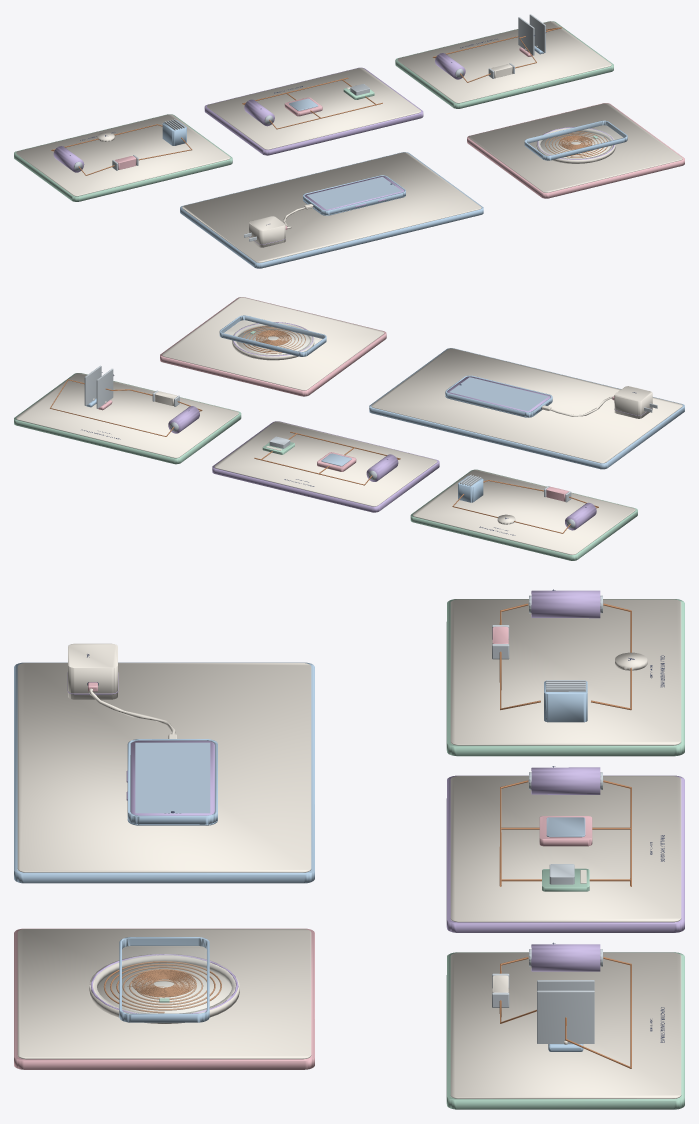
File: assembl-phone-atelier-web.glb
The picture shows the model from 3 angles, top to bottom: view 1: azimuth 30°, elevation 25°; view 2: azimuth 150°, elevation 25°; view 3: azimuth 270°, elevation 25°; orthographic projection. The views are drawn at different scales.
Parts seen in each view (by area): view 1: MESH_CHARGE_STATION_Phone_pastel_cream, MESH_PARALLEL_STATION_Phone_pastel_cream, MESH_INTERNAL_STATION_Phone_pastel_cream, MESH_WIRELESS_STATION_Phone_pastel_cream, MESH_CAPACITOR_STATION_Phone_pastel_cream, MESH_CHARGE_STATION_SHELL_MAT, MESH_WIRELESS_STATION_Phone_pastel_blush, MESH_PARALLEL_STATION_Phone_pastel_lilac, MESH_INTERNAL_STATION_PCB_MAT, MESH_CAPACITOR_STATION_PCB_MAT, MESH_SCREEN_SURFACE_SCREEN_MAT, MESH_QI_PAD_ROOT_Phone_pastel_cream (+10 smaller); view 2: MESH_CHARGE_STATION_Phone_pastel_cream, MESH_PARALLEL_STATION_Phone_pastel_cream, MESH_INTERNAL_STATION_Phone_pastel_cream, MESH_WIRELESS_STATION_Phone_pastel_cream, MESH_CAPACITOR_STATION_Phone_pastel_cream, MESH_CHARGE_STATION_SHELL_MAT, MESH_WIRELESS_STATION_Phone_pastel_blush, MESH_PARALLEL_STATION_Phone_pastel_lilac, MESH_INTERNAL_STATION_PCB_MAT, MESH_CAPACITOR_STATION_PCB_MAT, MESH_SCREEN_SURFACE_SCREEN_MAT, MESH_QI_PAD_ROOT_Phone_pastel_cream (+11 smaller); view 3: MESH_CHARGE_STATION_Phone_pastel_cream, MESH_PARALLEL_STATION_Phone_pastel_cream, MESH_INTERNAL_STATION_Phone_pastel_cream, MESH_WIRELESS_STATION_Phone_pastel_cream, MESH_CAPACITOR_STATION_Phone_pastel_cream, MESH_CHARGE_STATION_SHELL_MAT, MESH_SCREEN_SURFACE_SCREEN_MAT, MESH_QI_PAD_ROOT_Phone_pastel_cream, MESH_WIRELESS_STATION_Phone_pastel_blush, MESH_INTERNAL_STATION_PCB_MAT, MESH_CAPACITOR_STATION_PCB_MAT, MESH_PARALLEL_STATION_Phone_pastel_lilac (+12 smaller).
Boxes of the visible parts, x1,y1,x2,y2 form: MESH_CHARGE_STATION_Phone_pastel_cream: (182, 152, 481, 262); MESH_PARALLEL_STATION_Phone_pastel_cream: (207, 68, 420, 149); MESH_INTERNAL_STATION_Phone_pastel_cream: (16, 114, 230, 196); MESH_WIRELESS_STATION_Phone_pastel_cream: (469, 103, 682, 192); MESH_CAPACITOR_STATION_Phone_pastel_cream: (397, 21, 611, 103); MESH_CHARGE_STATION_SHELL_MAT: (180, 152, 483, 268); MESH_WIRELESS_STATION_Phone_pastel_blush: (467, 103, 684, 198); MESH_PARALLEL_STATION_Phone_pastel_lilac: (204, 67, 423, 155); MESH_INTERNAL_STATION_PCB_MAT: (14, 114, 232, 201); MESH_CAPACITOR_STATION_PCB_MAT: (395, 21, 613, 108); MESH_SCREEN_SURFACE_SCREEN_MAT: (307, 177, 401, 209); MESH_QI_PAD_ROOT_Phone_pastel_cream: (536, 127, 615, 163); MESH_CHARGE_STATION_Phone_pastel_cream: (371, 348, 682, 463); MESH_PARALLEL_STATION_Phone_pastel_cream: (214, 421, 437, 506); MESH_INTERNAL_STATION_Phone_pastel_cream: (413, 470, 635, 554); MESH_WIRELESS_STATION_Phone_pastel_cream: (162, 297, 384, 390); MESH_CAPACITOR_STATION_Phone_pastel_cream: (16, 373, 238, 458); MESH_CHARGE_STATION_SHELL_MAT: (369, 348, 684, 469); MESH_WIRELESS_STATION_Phone_pastel_blush: (160, 297, 386, 396); MESH_PARALLEL_STATION_Phone_pastel_lilac: (212, 421, 439, 512); MESH_INTERNAL_STATION_PCB_MAT: (410, 469, 637, 560); MESH_CAPACITOR_STATION_PCB_MAT: (14, 373, 241, 464); MESH_SCREEN_SURFACE_SCREEN_MAT: (449, 377, 548, 411); MESH_QI_PAD_ROOT_Phone_pastel_cream: (232, 322, 314, 360); MESH_CHARGE_STATION_Phone_pastel_cream: (17, 663, 311, 872); MESH_PARALLEL_STATION_Phone_pastel_cream: (450, 776, 681, 922); MESH_INTERNAL_STATION_Phone_pastel_cream: (450, 599, 681, 745); MESH_WIRELESS_STATION_Phone_pastel_cream: (17, 929, 311, 1059); MESH_CAPACITOR_STATION_Phone_pastel_cream: (450, 952, 681, 1098); MESH_CHARGE_STATION_SHELL_MAT: (14, 662, 314, 883); MESH_SCREEN_SURFACE_SCREEN_MAT: (135, 742, 210, 813); MESH_QI_PAD_ROOT_Phone_pastel_cream: (89, 954, 239, 1023); MESH_WIRELESS_STATION_Phone_pastel_blush: (14, 928, 314, 1069); MESH_INTERNAL_STATION_PCB_MAT: (446, 599, 684, 756); MESH_CAPACITOR_STATION_PCB_MAT: (446, 952, 684, 1109); MESH_PARALLEL_STATION_Phone_pastel_lilac: (446, 775, 684, 932).
Bounding box in the file's own units: 0.9466 × 0.066 × 0.5349.
